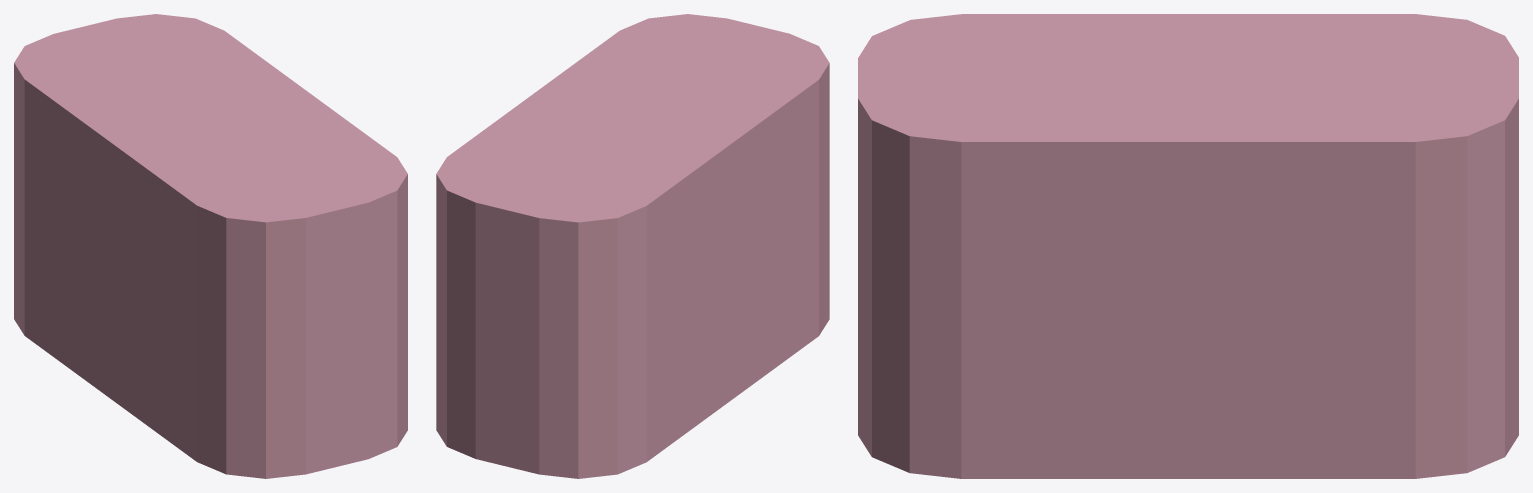
Rendered from pig_collider.fbx.
3 renders of one model, left to right at view 1: azimuth 30°, elevation 25°; view 2: azimuth 150°, elevation 25°; view 3: azimuth 270°, elevation 25°, orthographic. The views are drawn at different scales.
Visible parts, largest first — view 1: PigCollider; view 2: PigCollider; view 3: PigCollider.
Boxes of the visible parts, bbox=[...] form: PigCollider: bbox=[14, 14, 407, 478]; PigCollider: bbox=[436, 14, 829, 478]; PigCollider: bbox=[858, 14, 1518, 478].
Size of the model in its own units: 44 by 54 by 96.
